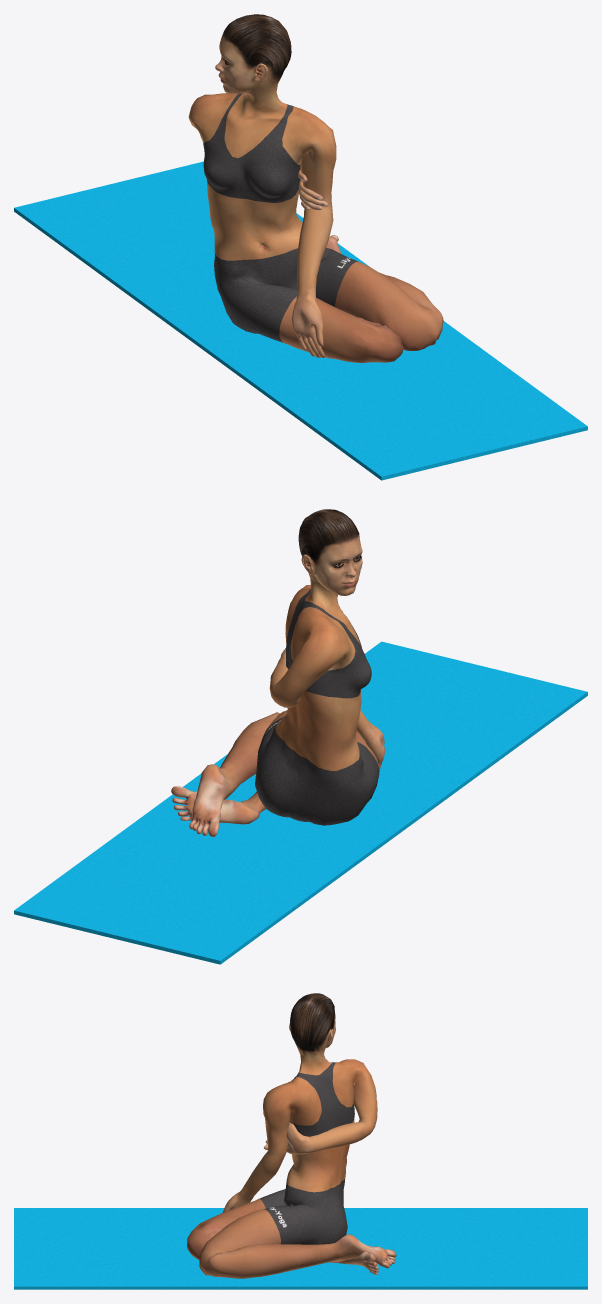
The model's file is bharadvajasana.glb.
The picture shows the model from 3 angles, top to bottom: view 1: azimuth 30°, elevation 25°; view 2: azimuth 150°, elevation 25°; view 3: azimuth 270°, elevation 25°; orthographic projection. The views are drawn at different scales.
Parts seen in each view (by area): view 1: mat_001-material, FemaleSkin-material; view 2: mat_001-material, FemaleSkin-material; view 3: mat_001-material, FemaleSkin-material.
Part boxes in pixels (x1,y1,x2,y2): mat_001-material: (14, 161, 587, 480); FemaleSkin-material: (188, 14, 443, 362); mat_001-material: (14, 641, 587, 964); FemaleSkin-material: (171, 509, 385, 836); mat_001-material: (14, 1208, 587, 1289); FemaleSkin-material: (187, 993, 396, 1278).
Bounding box in the file's own units: 2 × 2.84 × 6.17.
2 materials, 2 textured.
